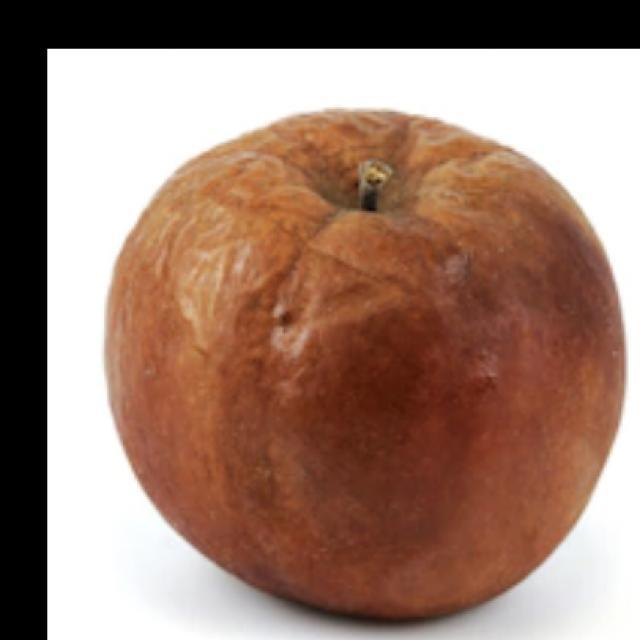Rotten: (98, 86, 599, 640)
